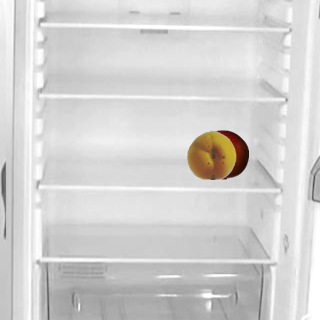Apple Braeburn: (198, 129, 248, 179)
Peach 2: (186, 129, 236, 179)
